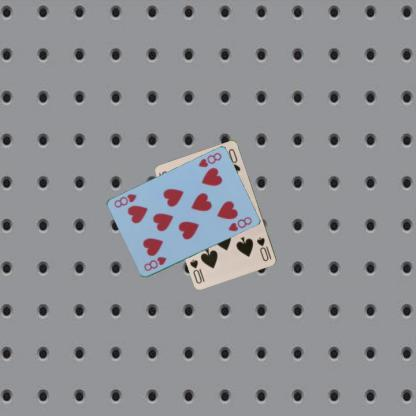10s: (254, 235, 273, 262)
8h: (141, 254, 168, 273), (196, 150, 223, 169)
